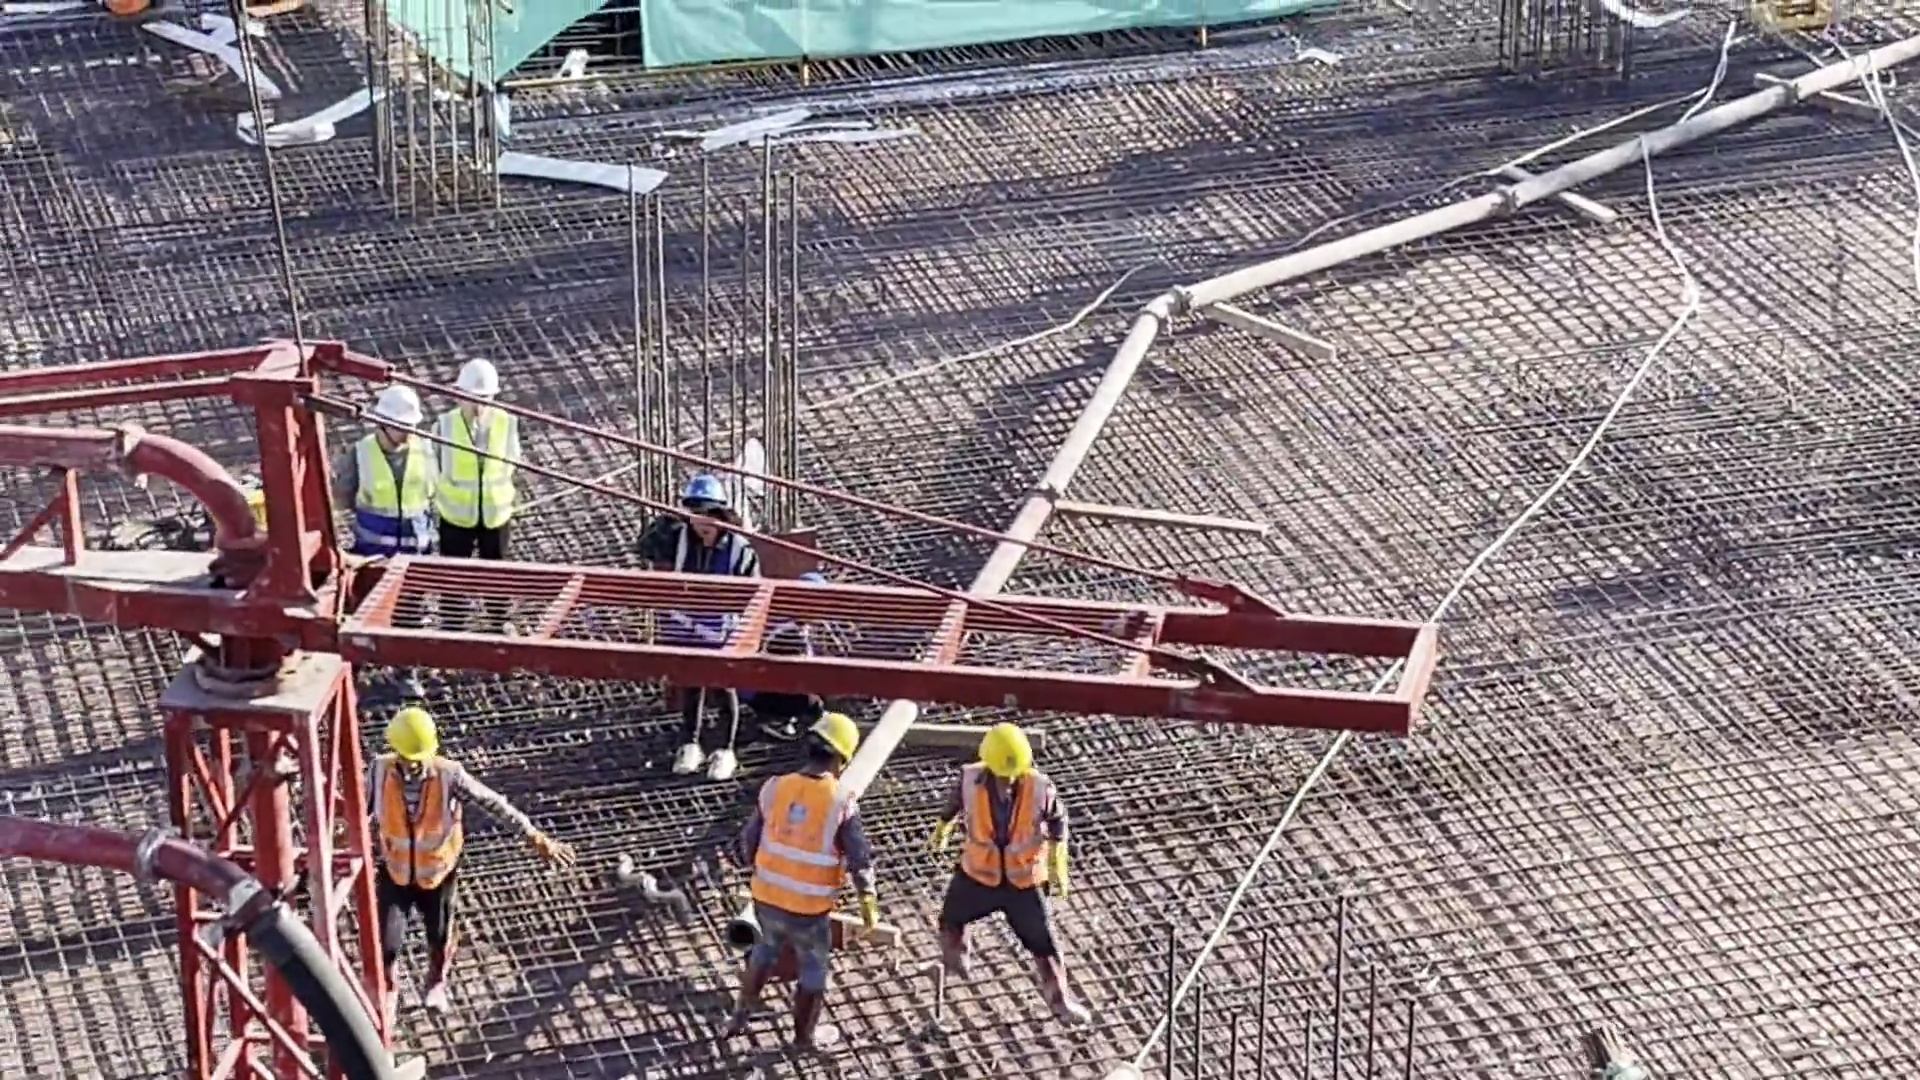helmet: (450, 368, 519, 415), (824, 711, 871, 763), (377, 383, 430, 418), (401, 717, 442, 761), (680, 467, 725, 506), (986, 734, 1038, 769)
person: (358, 698, 586, 1017), (723, 702, 880, 1069), (923, 711, 1085, 1037), (636, 458, 758, 780), (423, 354, 533, 694), (328, 385, 440, 709), (756, 575, 855, 727)
vest: (755, 773, 844, 930), (955, 779, 1050, 904), (434, 415, 522, 527), (675, 544, 751, 668), (382, 772, 454, 896), (365, 441, 423, 539), (760, 618, 814, 662)
